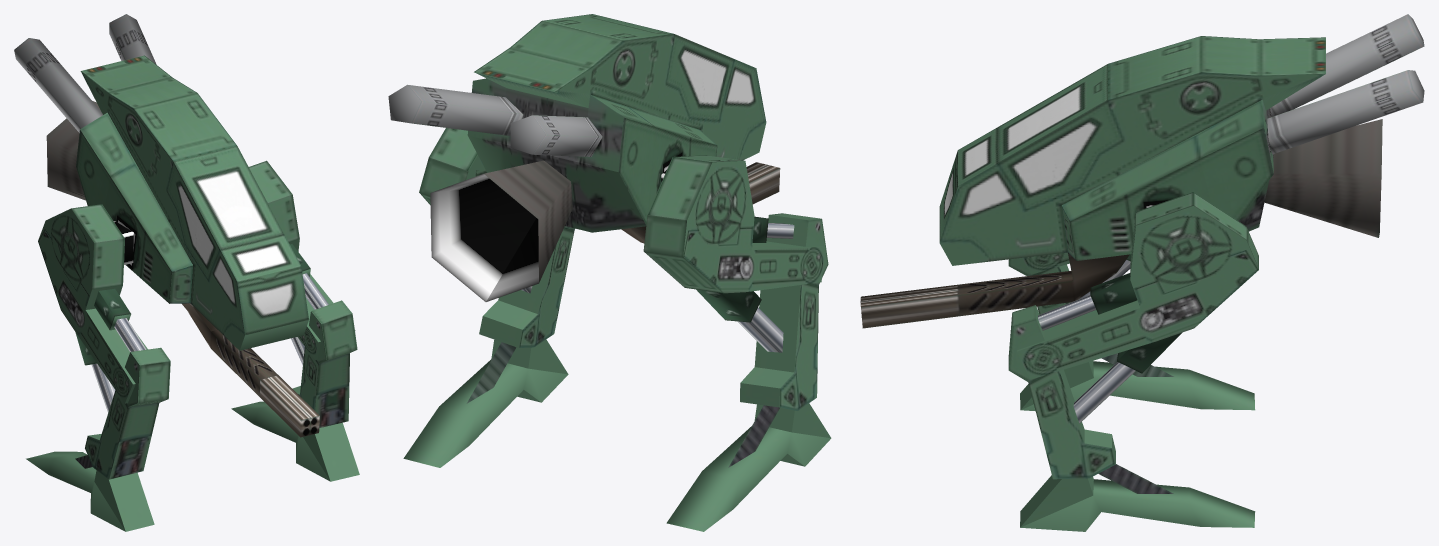
The model's file is Walker.fbx.
3 views of the same model, side by side, from view 1: azimuth 30°, elevation 25°; view 2: azimuth 150°, elevation 25°; view 3: azimuth 270°, elevation 25° (orthographic). The views are drawn at different scales.
Parts seen in each view (by area): view 1: walker; view 2: walker; view 3: walker.
Boxes of the visible parts, x1,y1,x2,y2 form: walker: [14, 14, 359, 531]; walker: [388, 14, 831, 531]; walker: [860, 14, 1424, 531].
Bounding box in the file's own units: 116 × 160 × 195.
1 material, 1 textured.
